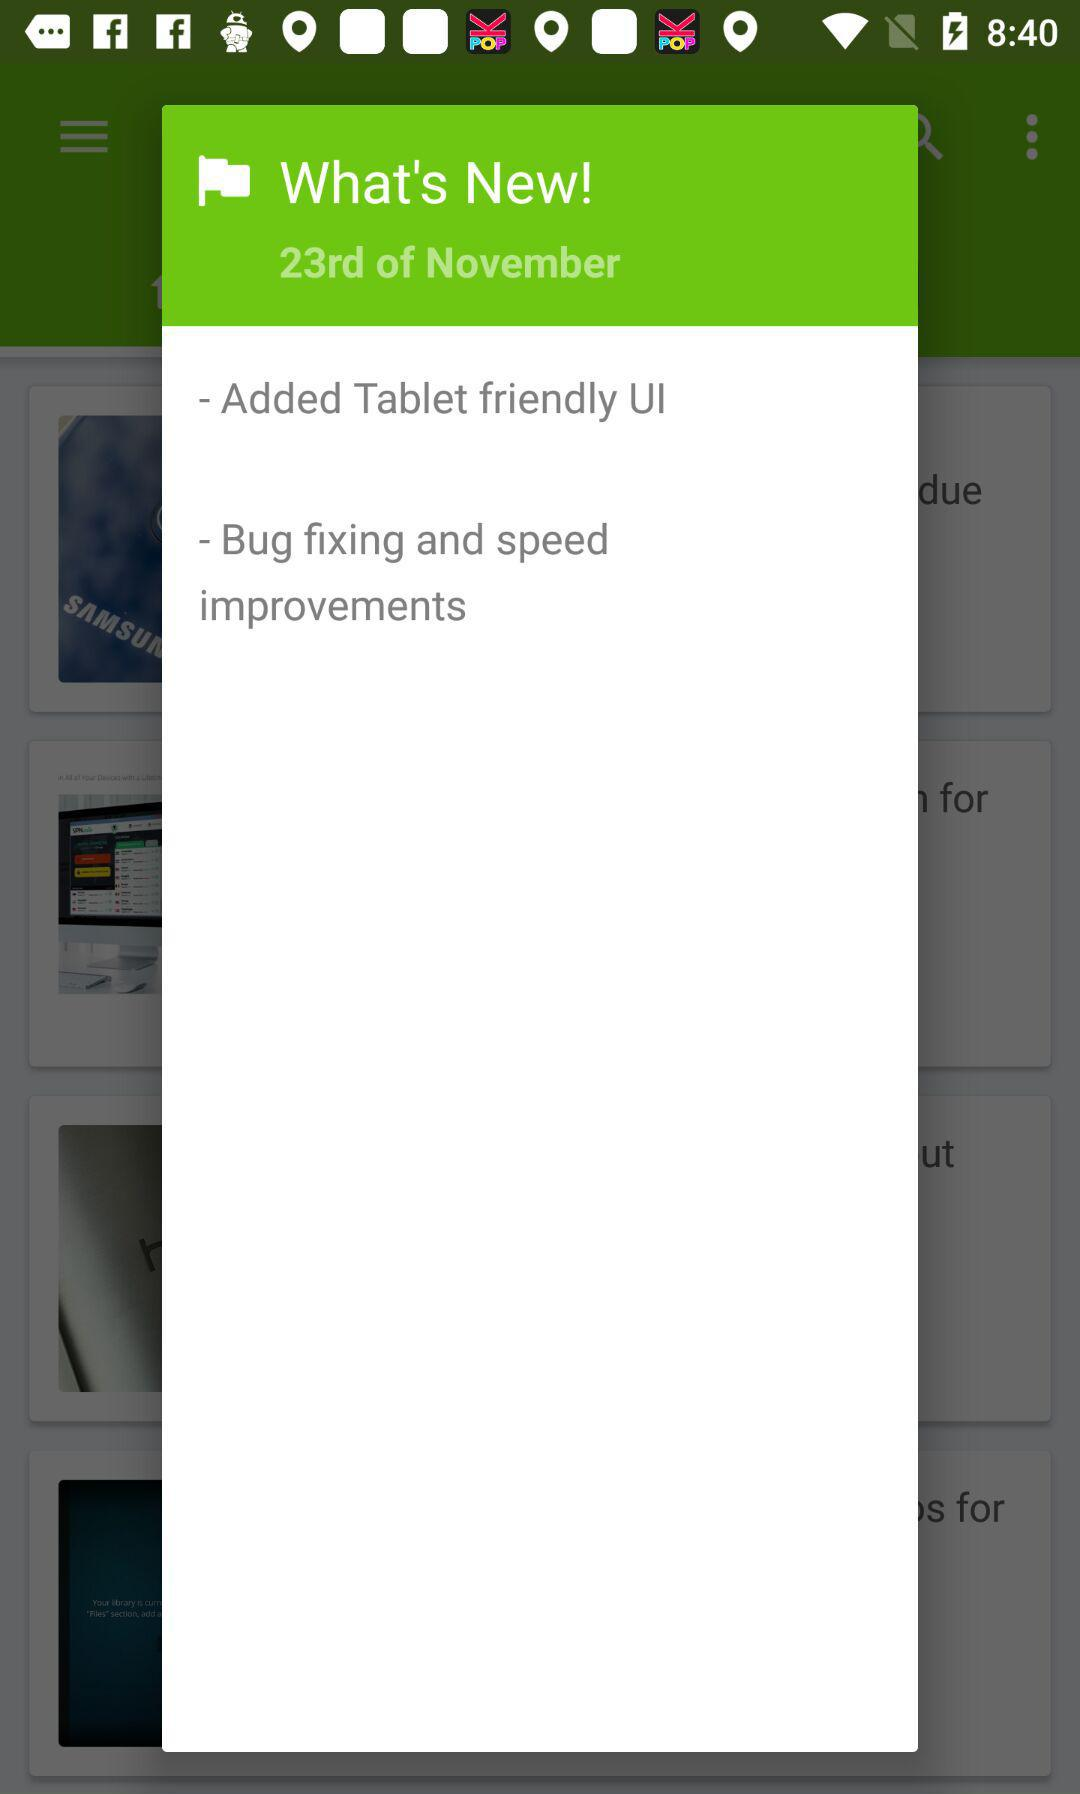Icon: (59, 120, 111, 155), (1024, 114, 1040, 161)
Image: (199, 158, 252, 208)
Modal: (161, 105, 919, 1752)
Text: (199, 522, 607, 630), (200, 379, 667, 416), (281, 159, 591, 208), (281, 243, 623, 281)
UpperTaskBar: (1, 1, 1080, 64)
